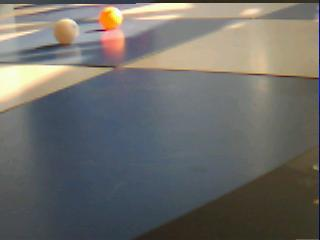oball: (99, 7, 122, 29)
